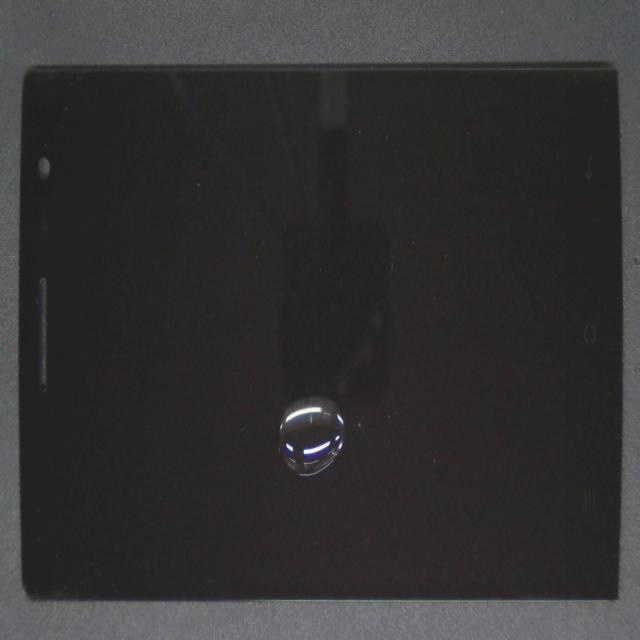oil: (181, 239, 519, 638)
